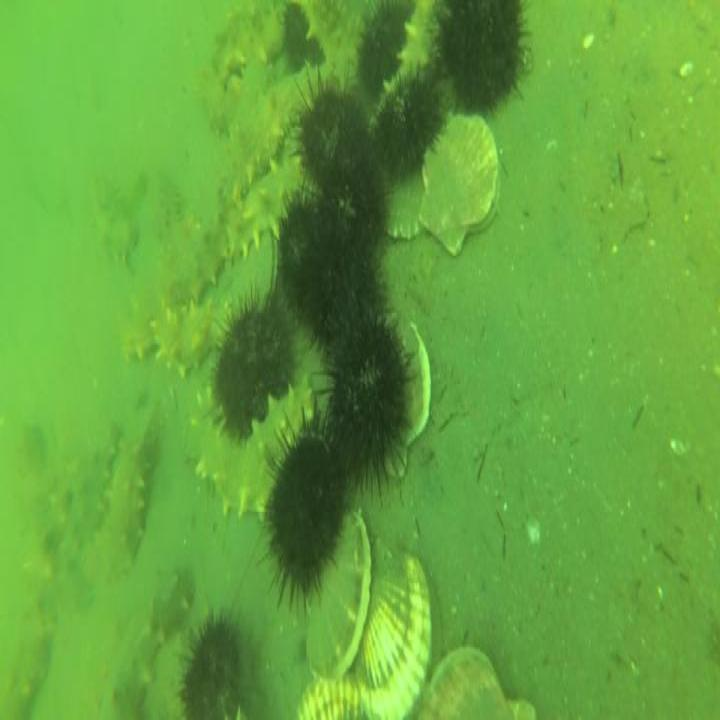echinus: (262, 427, 349, 599), (327, 317, 405, 487), (217, 299, 293, 437), (444, 0, 527, 114), (312, 260, 385, 370), (281, 187, 337, 327), (299, 80, 368, 192), (179, 606, 246, 720), (315, 169, 385, 270), (374, 78, 442, 178), (358, 0, 411, 101), (282, 0, 323, 71)
holothurian: (0, 420, 65, 714), (84, 562, 202, 720), (188, 382, 318, 523), (117, 214, 221, 366), (92, 388, 165, 587), (225, 69, 327, 199), (219, 151, 310, 269), (55, 414, 118, 576), (150, 294, 236, 382), (211, 0, 285, 85), (87, 166, 142, 268), (299, 0, 368, 66), (391, 0, 444, 84), (198, 60, 242, 134)
scallop: (360, 537, 436, 720), (302, 505, 373, 686), (422, 112, 505, 261), (418, 642, 538, 720), (383, 311, 434, 480), (289, 675, 390, 720), (378, 169, 430, 242)
